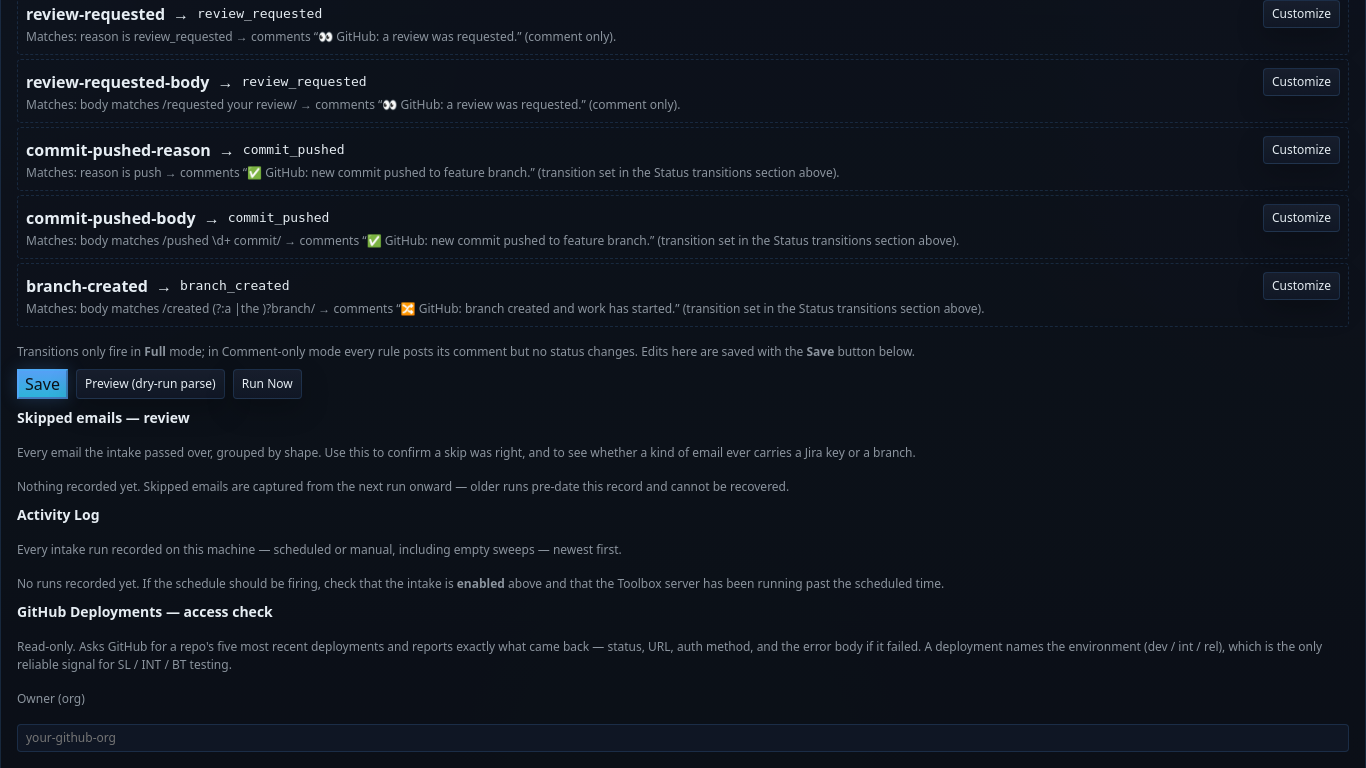
GithubEmailIntakePanel › Preview in an SP-only setup ACTUALLY previews: dry-run parse of the new SharePoint files
(page scrolled)
Click the button "Preview (dry-run parse)": point(150, 384) x1=76 y1=369 x2=225 y2=399
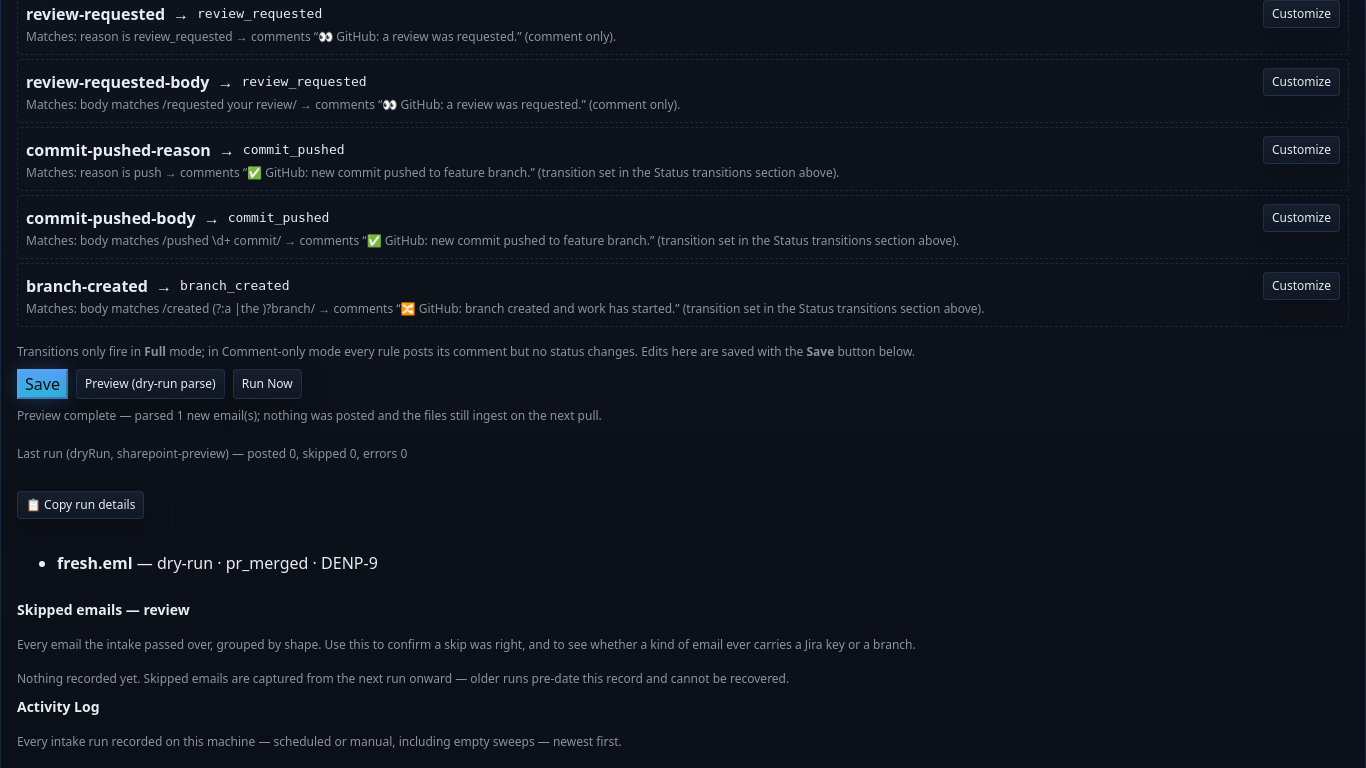
Check: the text "Preview complete" is shown, box x1=17 y1=407 x2=602 y2=424
Check: the text "fresh.eml" is shown, box x1=57 y1=552 x2=133 y2=574
